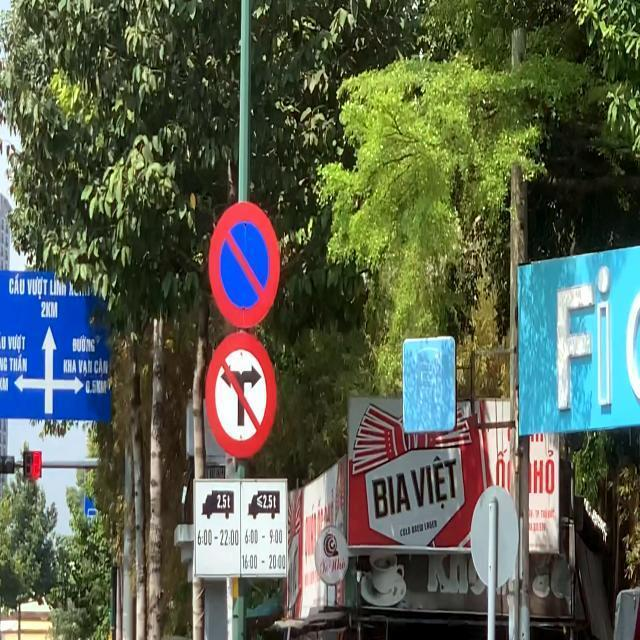131a-cam-do-xe: (206, 202, 280, 328)
137-cam-re-trai-va-re-phai: (204, 330, 276, 458)
